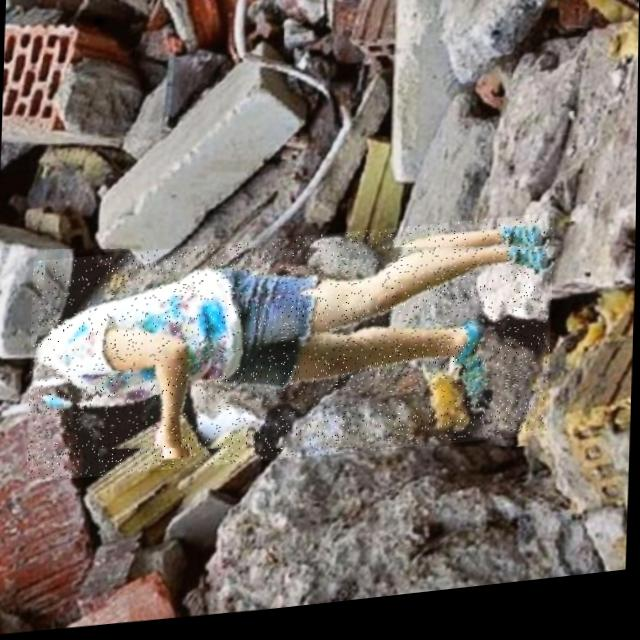Person in Rubble: (27, 215, 555, 491)
